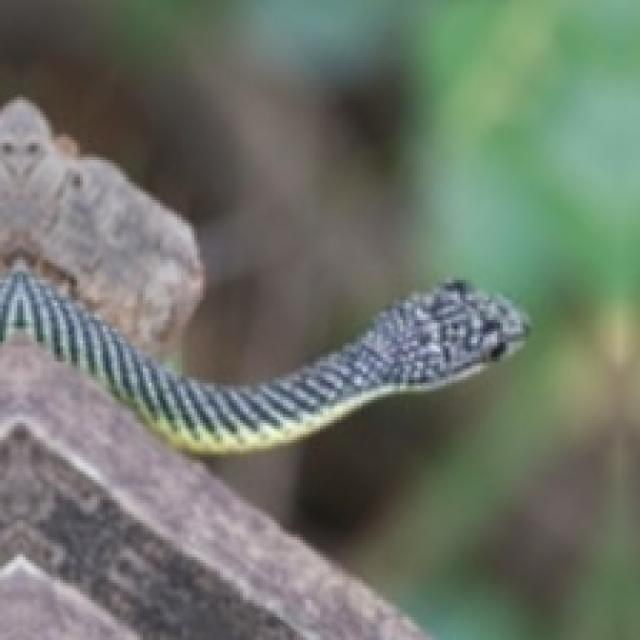paradise tree snake: (0, 97, 526, 451), (0, 271, 526, 451)
